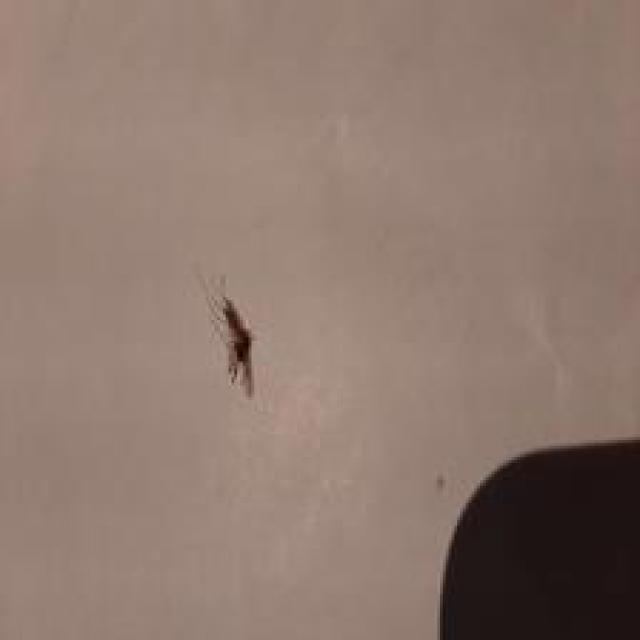Culex: (209, 293, 257, 398)
